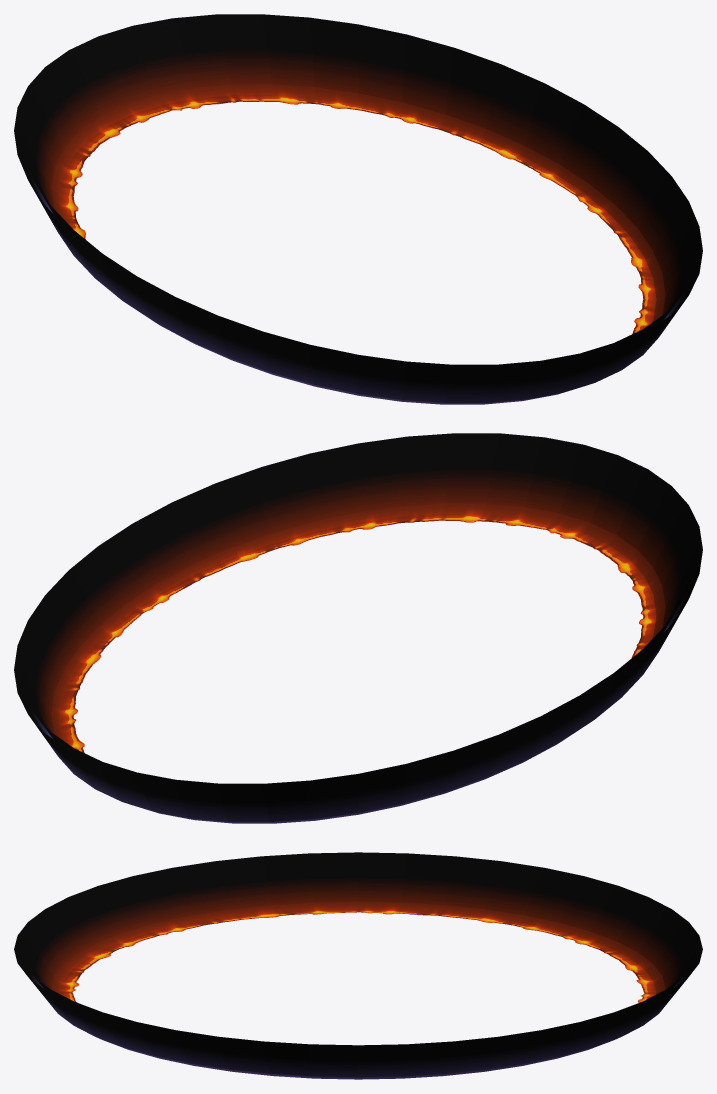
Rendered from p_charge_slow_fire.fbx.
3 renders of one model, top to bottom at view 1: azimuth 30°, elevation 25°; view 2: azimuth 150°, elevation 25°; view 3: azimuth 270°, elevation 25°, orthographic. The views are drawn at different scales.
Parts seen in each view (by area): view 1: ring_inner, ring_outer; view 2: ring_inner, ring_outer; view 3: ring_inner, ring_outer.
Part boxes in pixels (x1=…): ring_inner: x1=20, y1=18, x2=696, y2=367; ring_outer: x1=14, y1=14, x2=702, y2=404; ring_inner: x1=20, y1=437, x2=696, y2=786; ring_outer: x1=14, y1=433, x2=702, y2=823; ring_inner: x1=20, y1=855, x2=696, y2=1046; ring_outer: x1=14, y1=852, x2=702, y2=1079.
Size of the model in its own units: 2.23 by 0.2385 by 3.34.
Materials: 2 (2 with a texture image).
